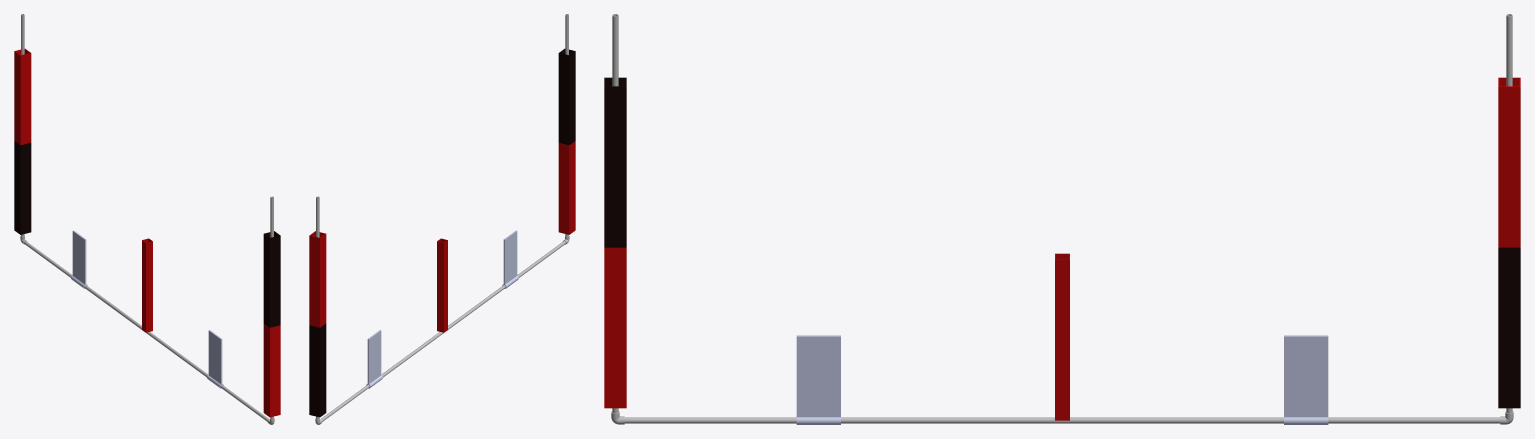
The model's file is gate 1.fbx.
3 renders of one model, left to right at view 1: azimuth 30°, elevation 25°; view 2: azimuth 150°, elevation 25°; view 3: azimuth 270°, elevation 25°, orthographic. The views are drawn at different scales.
Parts seen in each view (by area): view 1: Body_1_8, Body_1_4, Body_1_9, Body_1_5, Body_1, Body_1_6, Body_1_7, Body_1_12; view 2: Body_1_4, Body_1_8, Body_1_5, Body_1_9, Body_1, Body_1_6, Body_1_12, Body_1_7; view 3: Body_1, Body_1_4, Body_1_8, Body_1_7, Body_1_12, Body_1_5, Body_1_9, Body_1_6.
Boxes of the visible parts, x1,y1,x2,y2 form: Body_1_8: (263,231,280,327); Body_1_4: (14,48,31,145); Body_1_9: (263,323,280,417); Body_1_5: (14,141,31,234); Body_1: (24,241,268,421); Body_1_6: (142,238,152,332); Body_1_7: (72,230,86,285); Body_1_12: (208,330,222,384); Body_1_4: (309,231,326,327); Body_1_8: (558,48,575,145); Body_1_5: (309,323,326,417); Body_1_9: (558,141,575,234); Body_1: (321,241,565,421); Body_1_6: (437,238,447,332); Body_1_12: (503,230,517,284); Body_1_7: (367,330,381,384); Body_1: (624,417,1500,423); Body_1_4: (1498,77,1520,247); Body_1_8: (604,77,626,247); Body_1_7: (1284,335,1328,417); Body_1_12: (796,335,840,417); Body_1_5: (1498,247,1520,408); Body_1_9: (604,247,626,408); Body_1_6: (1055,253,1069,420).
Size of the model in its own units: 0.0762 by 3.15 by 1.55.
